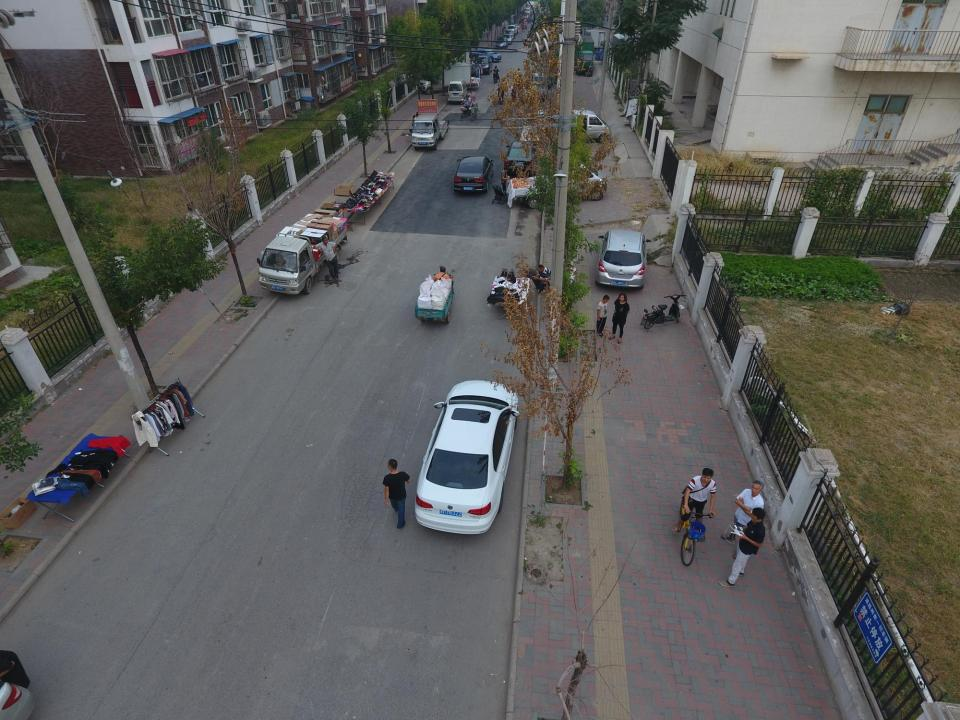car: (416, 379, 520, 536), (595, 230, 652, 288), (452, 156, 494, 193), (503, 140, 539, 176), (549, 110, 599, 132), (469, 47, 502, 62), (474, 55, 493, 74), (496, 36, 507, 49), (502, 29, 514, 40), (502, 34, 513, 44)
truck: (256, 213, 347, 295), (510, 158, 608, 209), (546, 114, 612, 144), (419, 61, 471, 95), (411, 113, 448, 150), (567, 35, 594, 74), (522, 72, 546, 100)
van: (447, 78, 468, 105)
